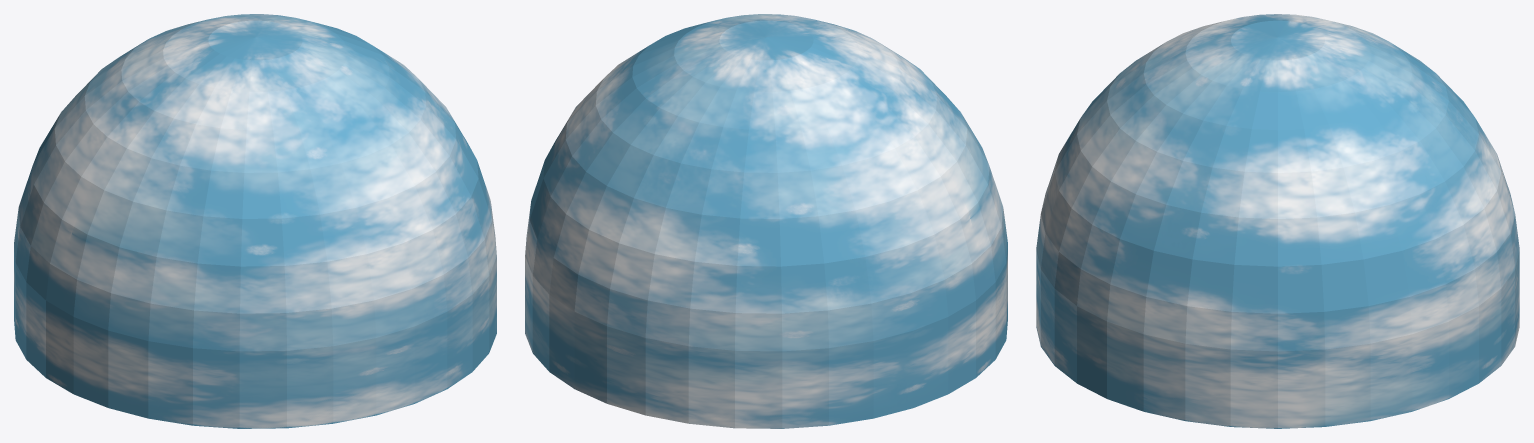
Rendered from domBig.obj.
3 renders of one model, left to right at view 1: azimuth 30°, elevation 25°; view 2: azimuth 150°, elevation 25°; view 3: azimuth 270°, elevation 25°, orthographic.
Visible parts, largest first — view 1: Sphere; view 2: Sphere; view 3: Sphere.
Boxes of the visible parts, left/top/right/bottom form: Sphere: left=14, top=14, right=496, bottom=428; Sphere: left=525, top=14, right=1007, bottom=428; Sphere: left=1036, top=14, right=1519, bottom=428.
Size of the model in its own units: 1.98 by 1.31 by 1.98.
